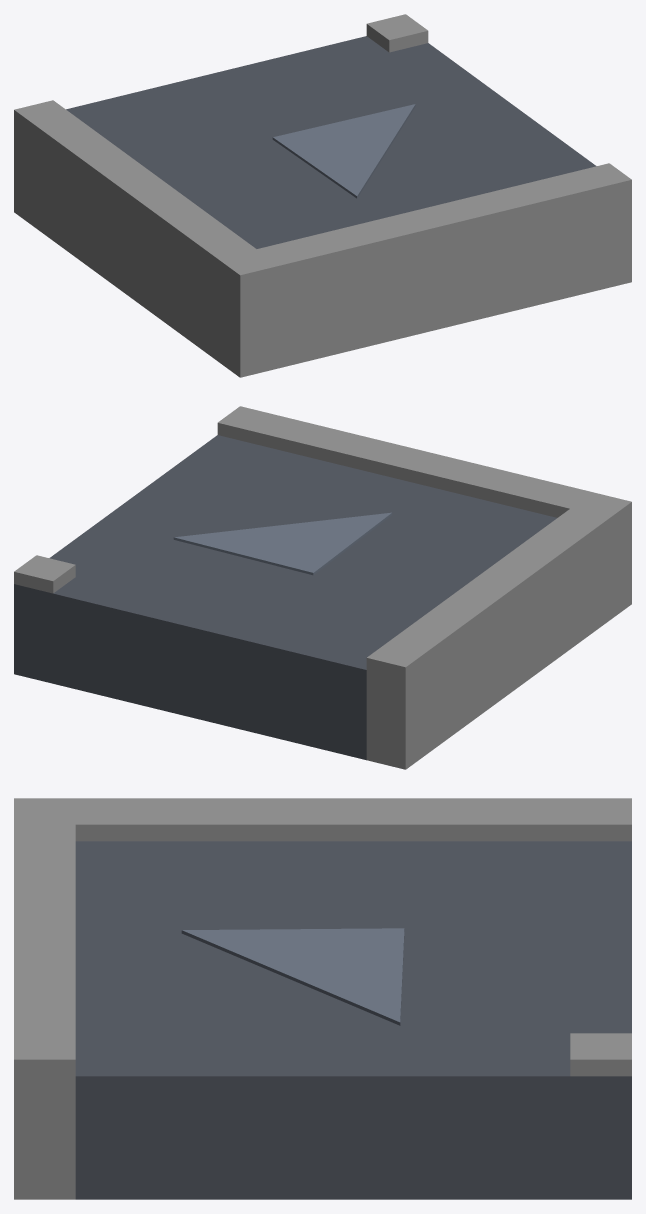
File: vfef_turn_right.obj
3 views of the same model, one above another, from view 1: azimuth 30°, elevation 25°; view 2: azimuth 150°, elevation 25°; view 3: azimuth 270°, elevation 25° (orthographic). The views are drawn at different scales.
Parts seen in each view (by area): view 1: vfef_turn_right_0, vfef_turn_right_2, vfef_turn_right_1, vfef_turn_right_4, vfef_turn_right_3; view 2: vfef_turn_right_0, vfef_turn_right_1, vfef_turn_right_2, vfef_turn_right_4, vfef_turn_right_3; view 3: vfef_turn_right_0, vfef_turn_right_1, vfef_turn_right_2, vfef_turn_right_4, vfef_turn_right_3.
Boxes of the visible parts, left/top/right/bottom form: vfef_turn_right_0: left=66, top=36, right=596, bottom=248; vfef_turn_right_2: left=257, top=163, right=631, bottom=368; vfef_turn_right_1: left=14, top=100, right=279, bottom=377; vfef_turn_right_4: left=272, top=104, right=415, bottom=198; vfef_turn_right_3: left=366, top=14, right=428, bottom=52; vfef_turn_right_0: left=14, top=435, right=556, bottom=760; vfef_turn_right_1: left=366, top=492, right=631, bottom=769; vfef_turn_right_2: left=217, top=406, right=592, bottom=517; vfef_turn_right_4: left=173, top=512, right=392, bottom=575; vfef_turn_right_3: left=14, top=555, right=75, bottom=593; vfef_turn_right_0: left=75, top=841, right=631, bottom=1199; vfef_turn_right_1: left=14, top=798, right=631, bottom=841; vfef_turn_right_2: left=14, top=824, right=75, bottom=1199; vfef_turn_right_4: left=181, top=928, right=404, bottom=1025; vfef_turn_right_3: left=570, top=1033, right=631, bottom=1076.
Bounding box in the file's own units: 1 × 0.25 × 1.
